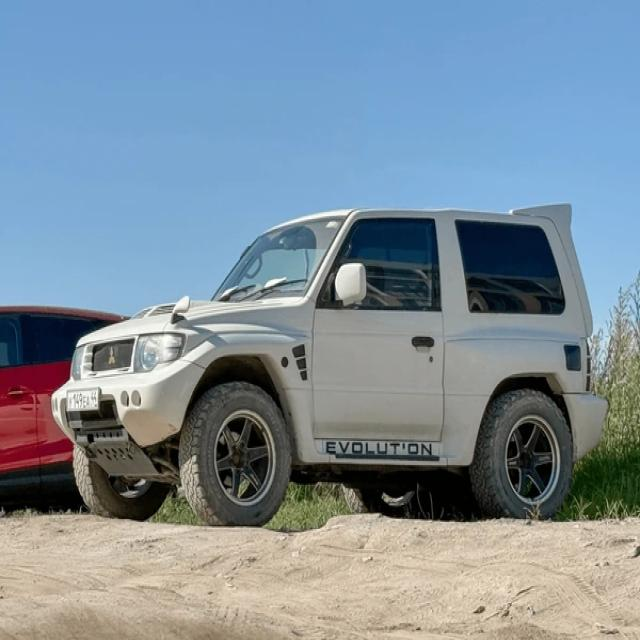mitsubishi: (105, 343, 119, 368)
